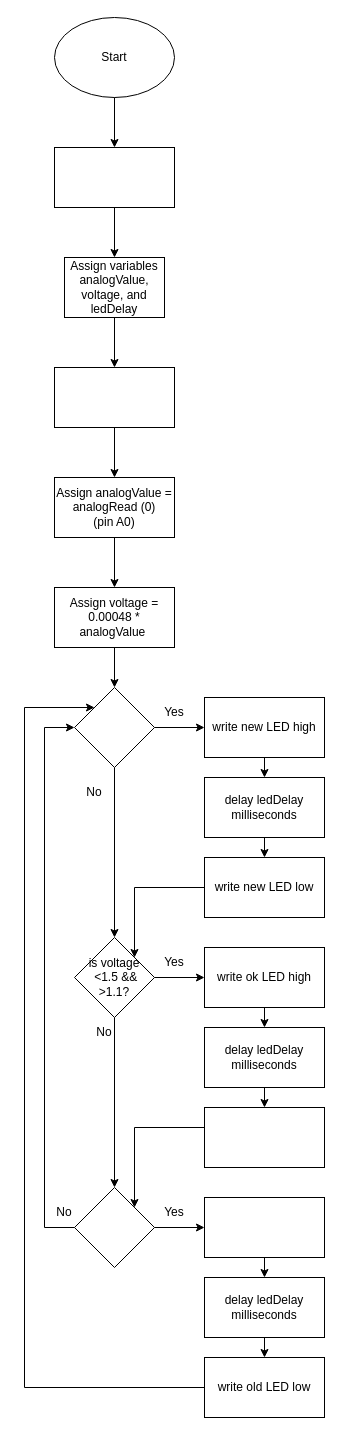
The diagram is 342 pixels wide and 1435 high, and some of its shapes have lost their labels. Each missing label, with the centre of its shape:
"Assign new, okay, and old LEDs as output" goes at [114,397].
"Assign pins for new, okay, and old LEDs" goes at [114,177].
"is voltage >= 1.5?" goes at [114,727].
"is voltage >=1.1?" goes at [114,1227].
"write ok LED low" goes at [264,1137].
"write old LED high" goes at [264,1227].
